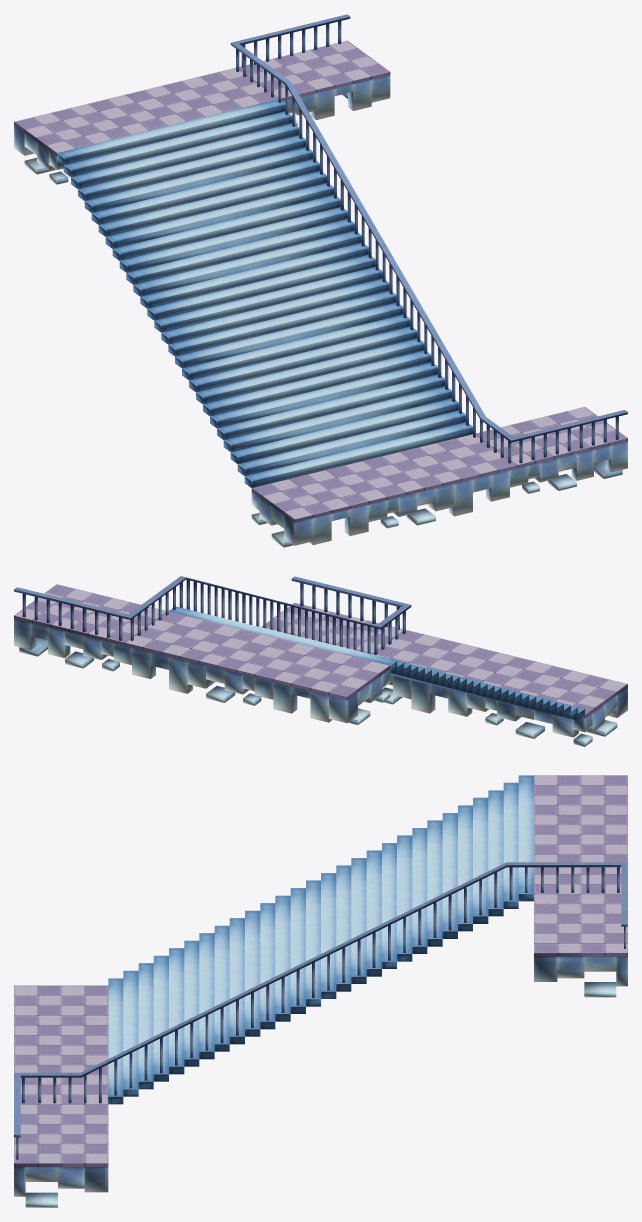
Rendered from a_ESDstair02.glb.
3 renders of one model, top to bottom at view 1: azimuth 30°, elevation 25°; view 2: azimuth 150°, elevation 25°; view 3: azimuth 270°, elevation 25°, orthographic. The views are drawn at different scales.
Visible parts, largest first — view 1: a_ESDstair02; view 2: a_ESDstair02; view 3: a_ESDstair02.
Boxes of the visible parts, x1,y1,x2,y2 form: a_ESDstair02: (14,14,627,547); a_ESDstair02: (14,576,627,746); a_ESDstair02: (14,775,627,1207).
Bounding box in the file's own units: 9 × 6.68 × 13.12.
Materials: 3 (3 with a texture image).
